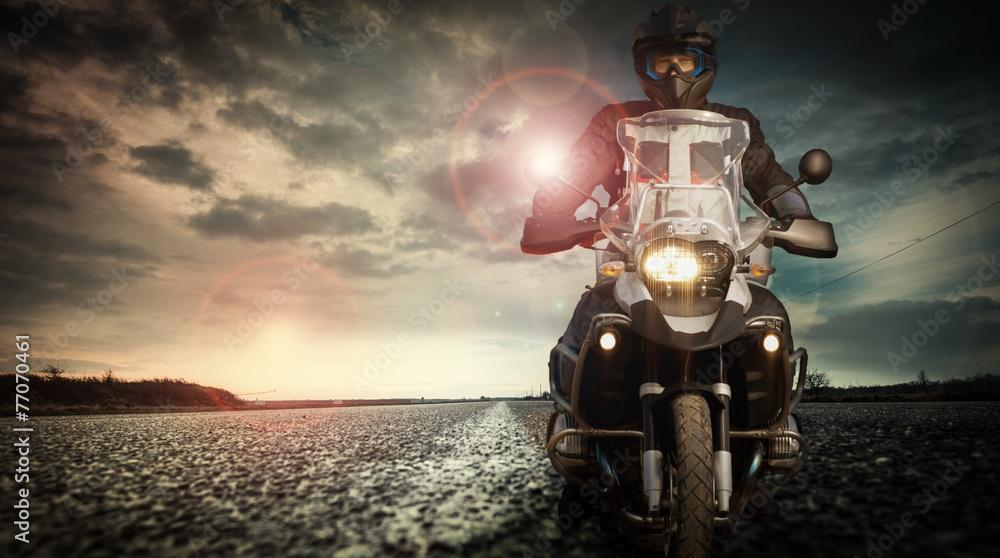helmet: (630, 2, 718, 119)
